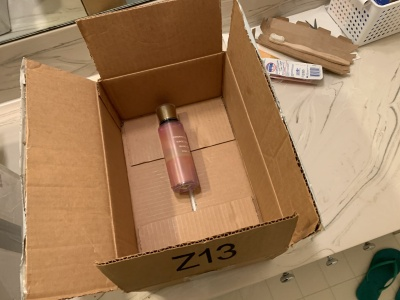innerbox: (103, 67, 259, 233)
outerbox: (28, 1, 299, 257)
product: (153, 101, 197, 191)
